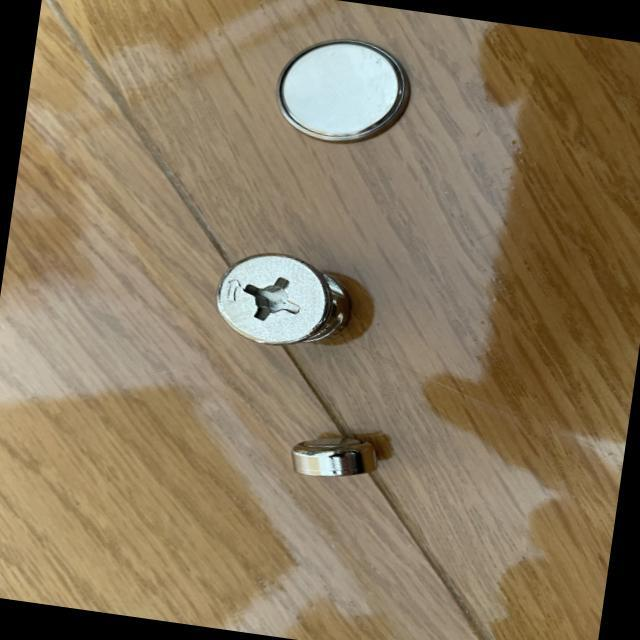COIN: (270, 28, 416, 152), (290, 427, 382, 486)
